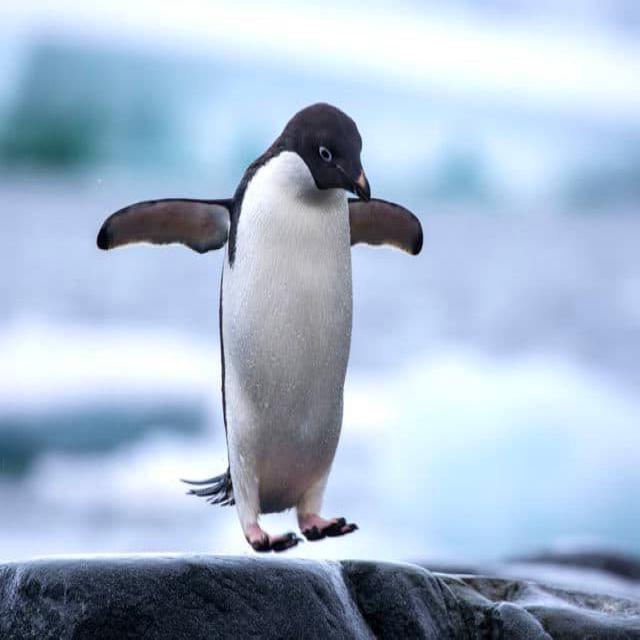penguin: (97, 103, 423, 552)
